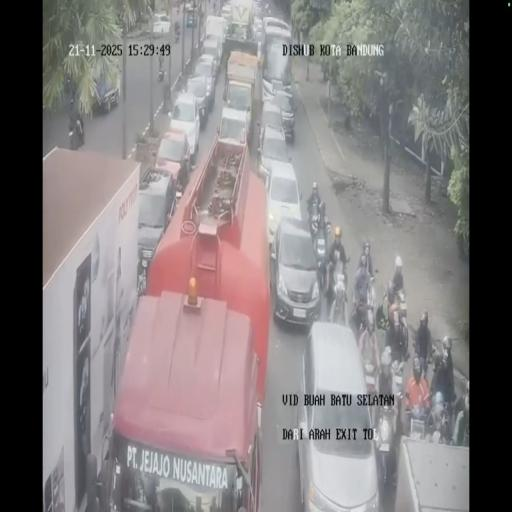car: (297, 322, 378, 510), (260, 154, 301, 244), (152, 132, 190, 191), (216, 105, 251, 164), (257, 100, 287, 160), (184, 72, 213, 126), (201, 39, 222, 82), (268, 78, 293, 110), (152, 13, 170, 35), (252, 16, 264, 46), (220, 2, 232, 26), (252, 0, 262, 17)
motorcycle: (353, 266, 376, 334), (407, 391, 433, 441), (389, 354, 407, 421), (328, 270, 349, 326), (361, 349, 380, 401), (307, 196, 323, 240), (387, 275, 405, 313), (69, 112, 84, 150), (157, 58, 164, 81), (174, 26, 180, 43)
truck: (261, 16, 293, 76), (185, 6, 198, 28)
